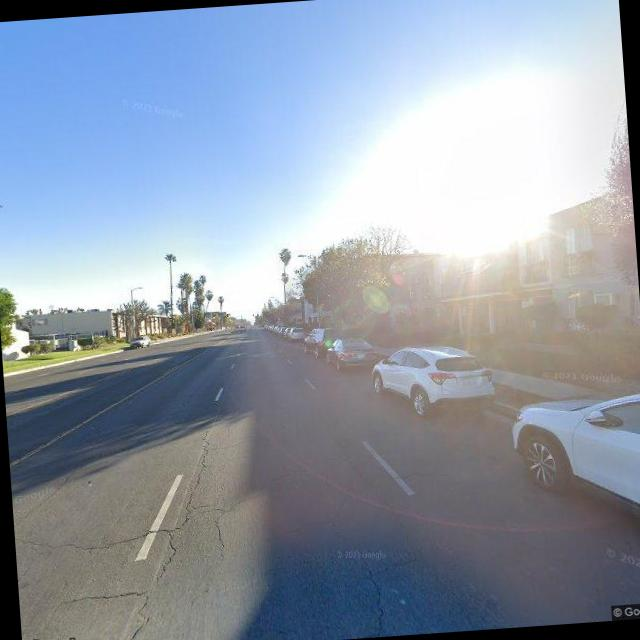crack: (102, 394, 239, 640), (13, 502, 229, 561), (18, 580, 157, 612), (349, 552, 388, 638)
